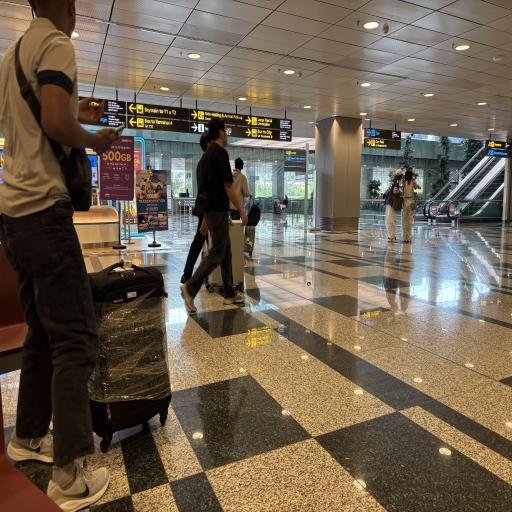person_with_luggage_right: (190, 116, 249, 317)
